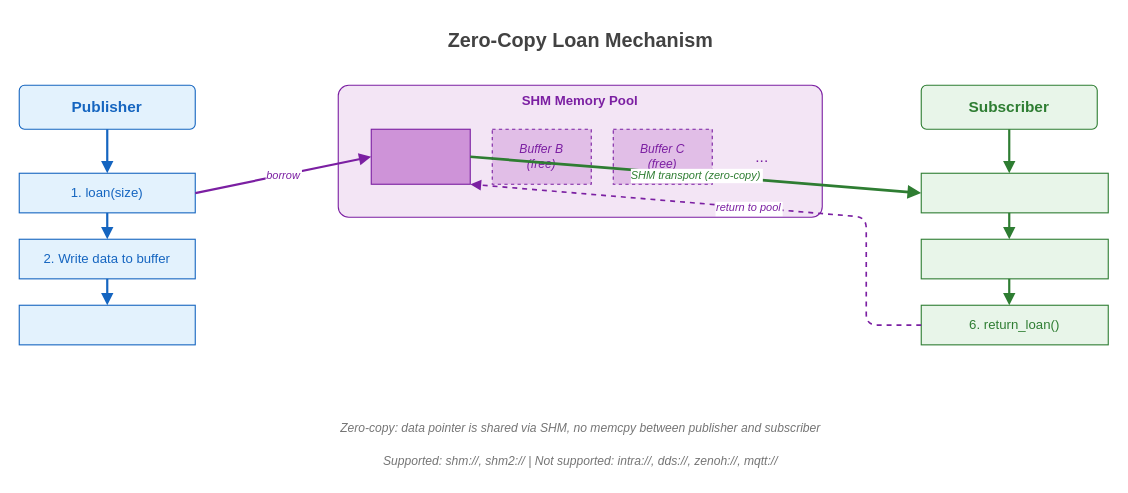
The diagram is 1128 pixels wide and 493 high, and some of its shapes have lost their labels. The centre of each missing label's shape, as x and y in pixels:
3. publish(loaned_buf): the point at 106,324
4. callback(loaned_data): the point at 1014,192
5. Read data directly: the point at 1014,258
Buffer A (loaned): the point at 420,156
